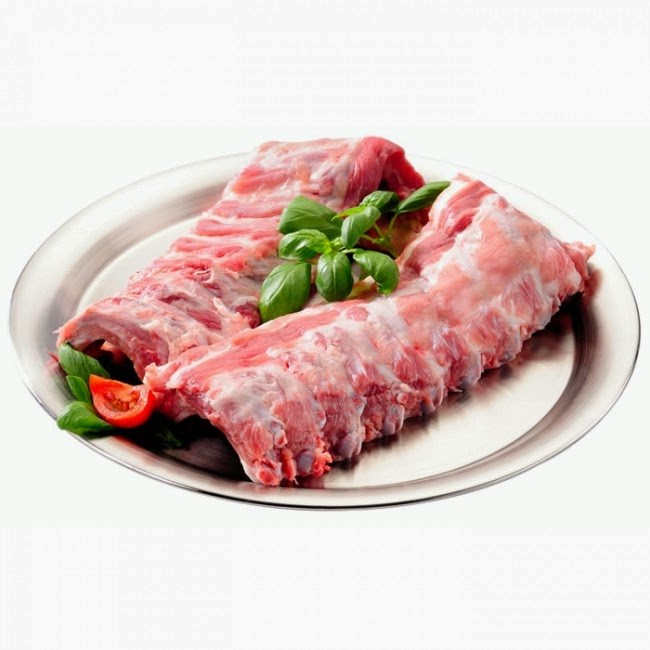bacon: (84, 128, 594, 532)
